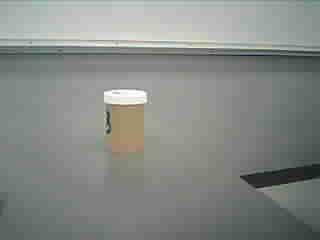Bottle B: (98, 82, 152, 161)
